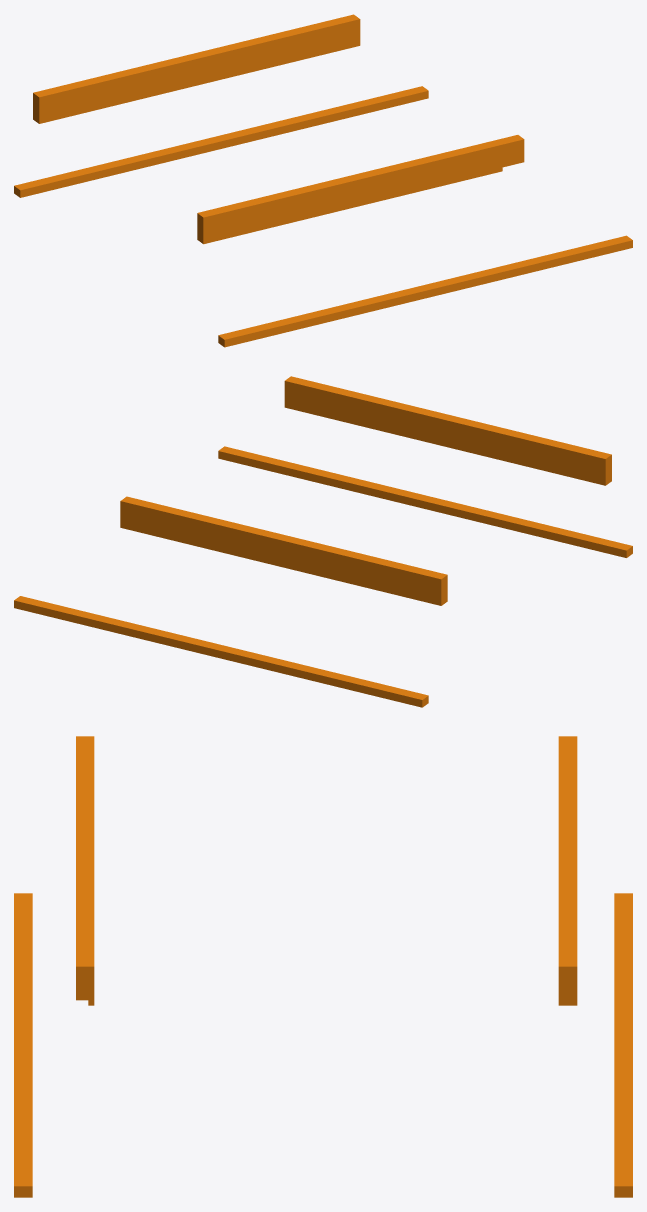
File: escena nave interior-2-navedelantera.obj
3 renders of one model, top to bottom at view 1: azimuth 30°, elevation 25°; view 2: azimuth 150°, elevation 25°; view 3: azimuth 270°, elevation 25°, orthographic. The views are drawn at different scales.
Parts seen in each view (by area): view 1: navedelantera; view 2: navedelantera; view 3: navedelantera.
Boxes of the visible parts, x1,y1,x2,y2 form: navedelantera: (14,14,632,347); navedelantera: (14,376,632,707); navedelantera: (14,736,632,1197).
Size of the model in its own units: 11.2 by 3 by 10.
1 material, 1 textured.
